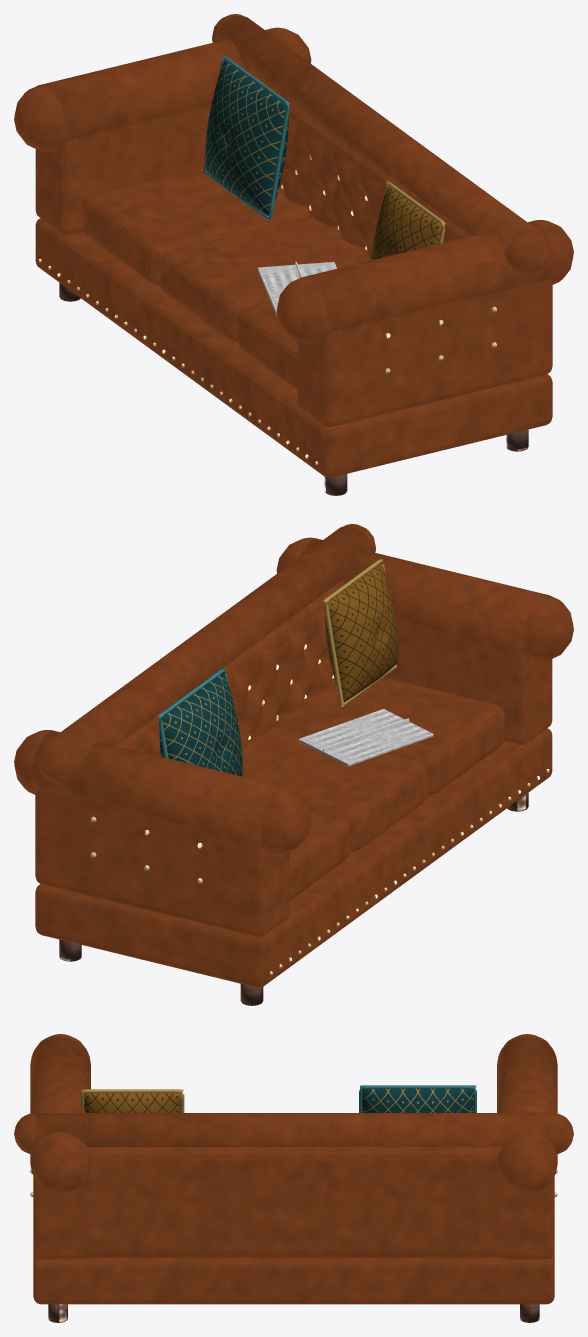
Rendered from liv-sofa.glb.
3 renders of one model, top to bottom at view 1: azimuth 30°, elevation 25°; view 2: azimuth 150°, elevation 25°; view 3: azimuth 270°, elevation 25°, orthographic. The views are drawn at different scales.
Visible parts, largest first — view 1: LM_Sofa, Cushion Teal, Cushion Ochre, Newspaper, Cushion Teal Piping; view 2: LM_Sofa, Cushion Ochre, Cushion Teal, Newspaper, Cushion Ochre Piping, Cushion Teal Piping; view 3: LM_Sofa, Cushion Teal, Cushion Ochre, Cushion Teal Piping, Cushion Ochre Piping.
Part boxes in pixels (x1=…): LM_Sofa: x1=14, y1=14, x2=573, y2=495; Cushion Teal: x1=205, y1=60, x2=288, y2=215; Cushion Ochre: x1=371, y1=186, x2=444, y2=259; Newspaper: x1=257, y1=262, x2=336, y2=315; Cushion Teal Piping: x1=203, y1=55, x2=290, y2=220; LM_Sofa: x1=14, y1=524, x2=573, y2=1005; Cushion Ochre: x1=325, y1=562, x2=398, y2=702; Cushion Teal: x1=159, y1=672, x2=242, y2=776; Newspaper: x1=298, y1=709, x2=433, y2=766; Cushion Ochre Piping: x1=323, y1=558, x2=396, y2=706; Cushion Teal Piping: x1=158, y1=667, x2=243, y2=776; LM_Sofa: x1=14, y1=1034, x2=573, y2=1322; Cushion Teal: x1=361, y1=1088, x2=474, y2=1112; Cushion Ochre: x1=83, y1=1092, x2=181, y2=1112; Cushion Teal Piping: x1=359, y1=1085, x2=476, y2=1112; Cushion Ochre Piping: x1=81, y1=1089, x2=184, y2=1112.
Size of the model in its own units: 1.19 by 0.9244 by 2.26.
9 materials, 4 textured.
